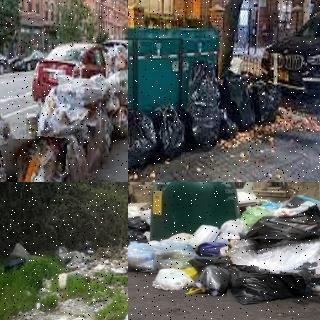Garbage: (32, 78, 100, 182), (226, 234, 320, 279), (185, 63, 225, 148), (228, 266, 311, 306), (4, 136, 72, 182), (243, 214, 320, 245), (150, 104, 189, 159), (223, 74, 257, 128), (128, 240, 194, 267), (128, 109, 158, 167), (249, 79, 283, 124), (153, 267, 191, 291), (241, 204, 270, 228)
